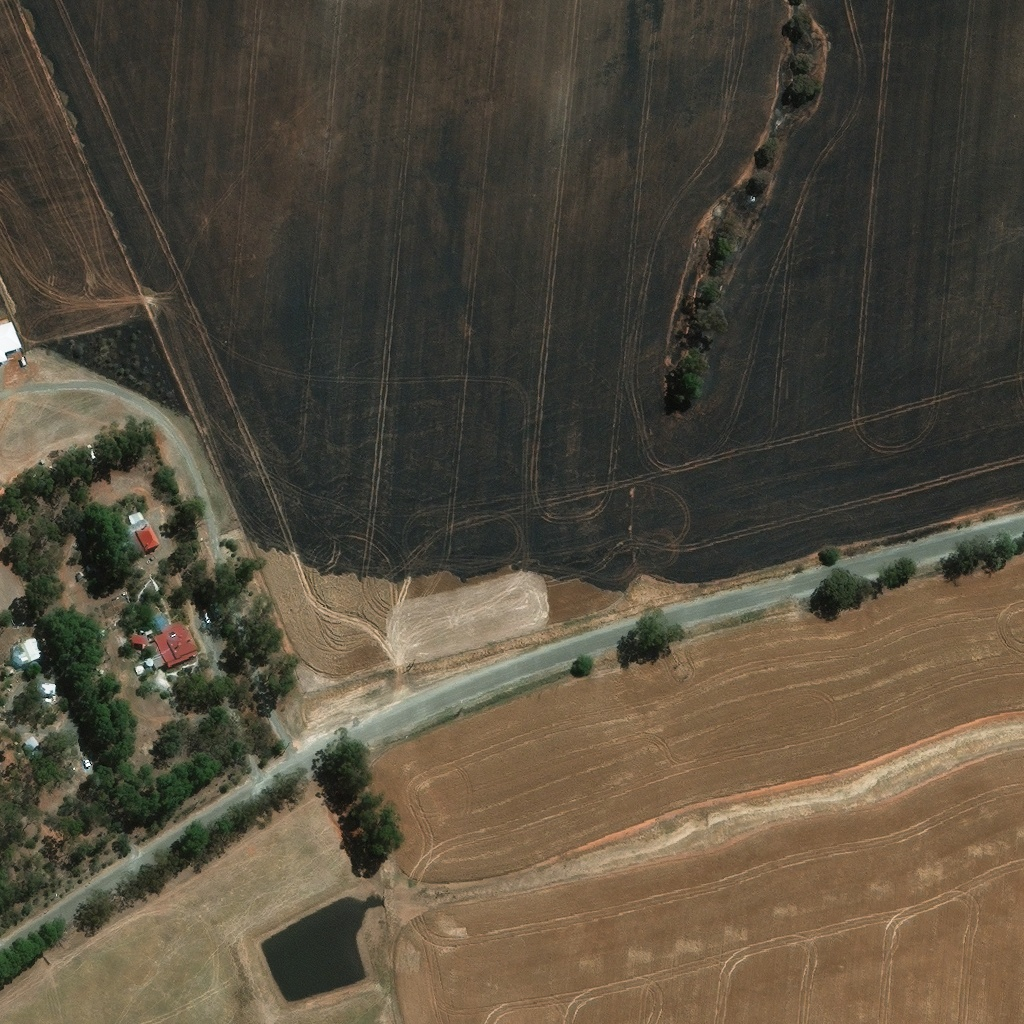0 no-damage: (153, 618, 198, 668), (122, 510, 161, 557), (21, 732, 37, 750), (132, 633, 148, 647), (137, 663, 146, 672), (145, 659, 153, 667)
2 major-damage: (17, 635, 46, 666), (36, 681, 57, 699), (76, 569, 84, 578)
